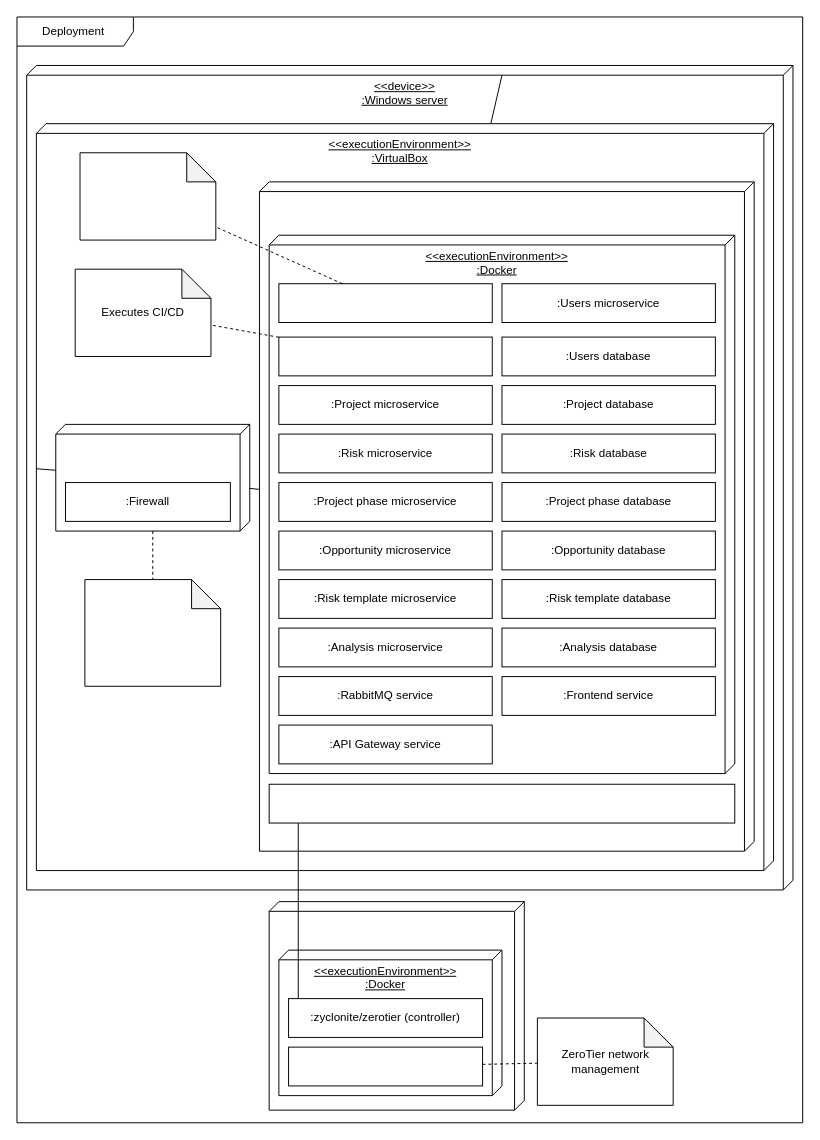
This 820x1140 diagram has some shape labels left out. The box of each missing label's shape, as (x1, y1, x2, y2) in pixels:
:dec0dos/zero-ui: (288, 1046, 483, 1086)
:gitlab/gitlab-runner: (278, 336, 492, 376)
:portainer/portainer-ce: (278, 283, 492, 323)
:Zerotier-one (leaf): (268, 783, 735, 823)
<<device>> :Linux server: (268, 901, 524, 1110)
<<executionEnvironment>> :Linux Debian server: (259, 181, 754, 851)
<<executionEnvironment>> :OpenWRT router: (55, 423, 250, 531)
Block communication from Linux server to Windows server local network: (84, 579, 221, 686)
Container management: (79, 152, 216, 240)
